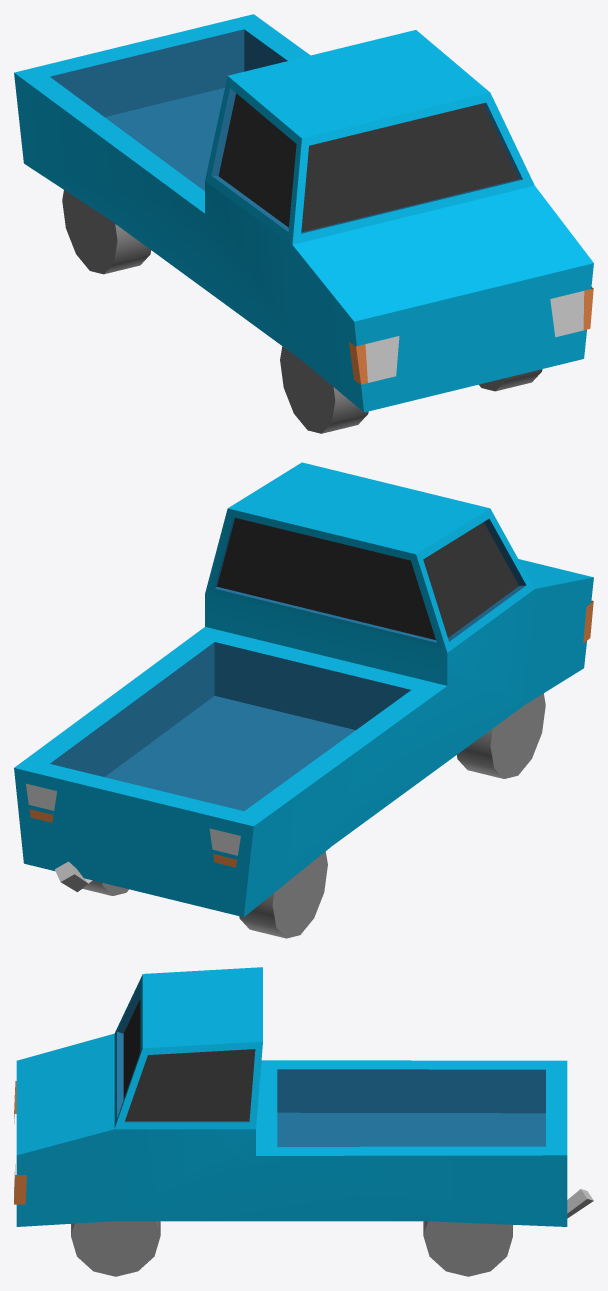
Rendered from pickup_03.fbx.
3 views of the same model, one above another, from view 1: azimuth 30°, elevation 25°; view 2: azimuth 150°, elevation 25°; view 3: azimuth 270°, elevation 25° (orthographic). The views are drawn at different scales.
Parts seen in each view (by area): view 1: pickup_03; view 2: pickup_03; view 3: pickup_03.
Boxes of the visible parts, x1=… form: pickup_03: x1=14, y1=14, x2=593, y2=433; pickup_03: x1=14, y1=462, x2=593, y2=938; pickup_03: x1=14, y1=967, x2=593, y2=1276.
Size of the model in its own units: 1.6 by 1.8 by 4.1.
